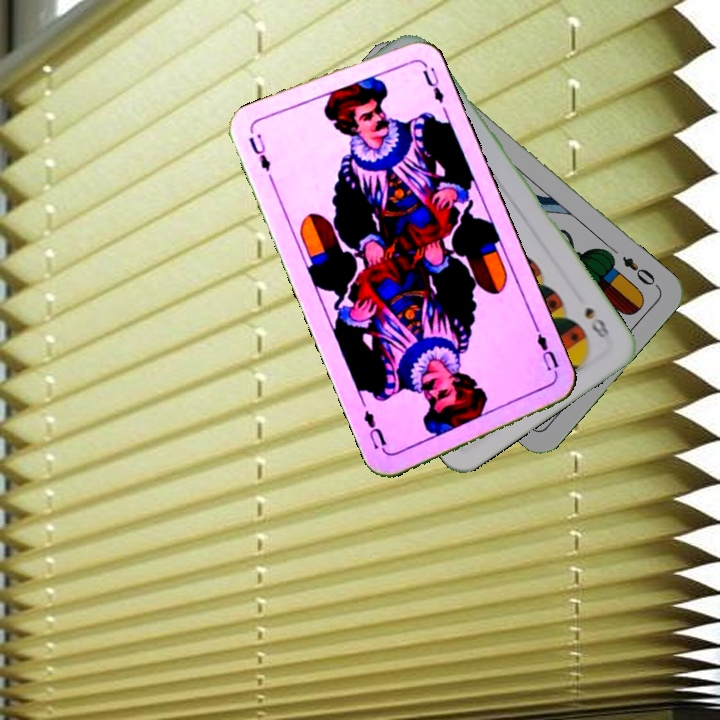EO: (618, 252, 662, 290)
EU: (532, 324, 561, 381), (245, 128, 274, 174)
S8: (580, 303, 612, 341)
